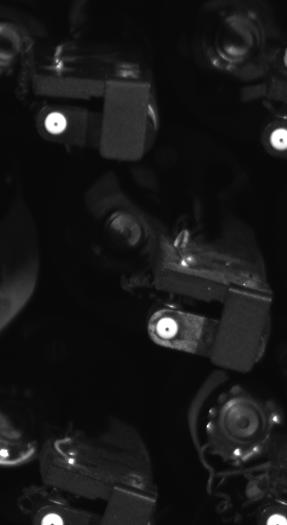fiber: (41, 109, 75, 140), (151, 316, 181, 341), (37, 509, 69, 525), (268, 126, 287, 151), (260, 507, 287, 524)
